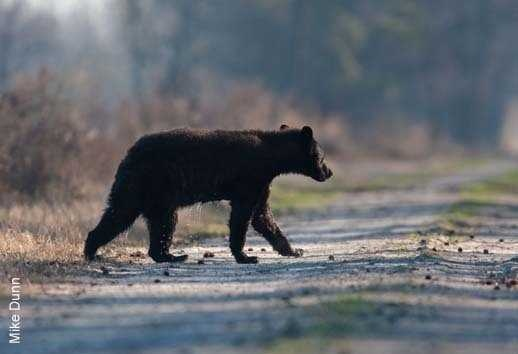bear: (210, 115, 338, 243)
